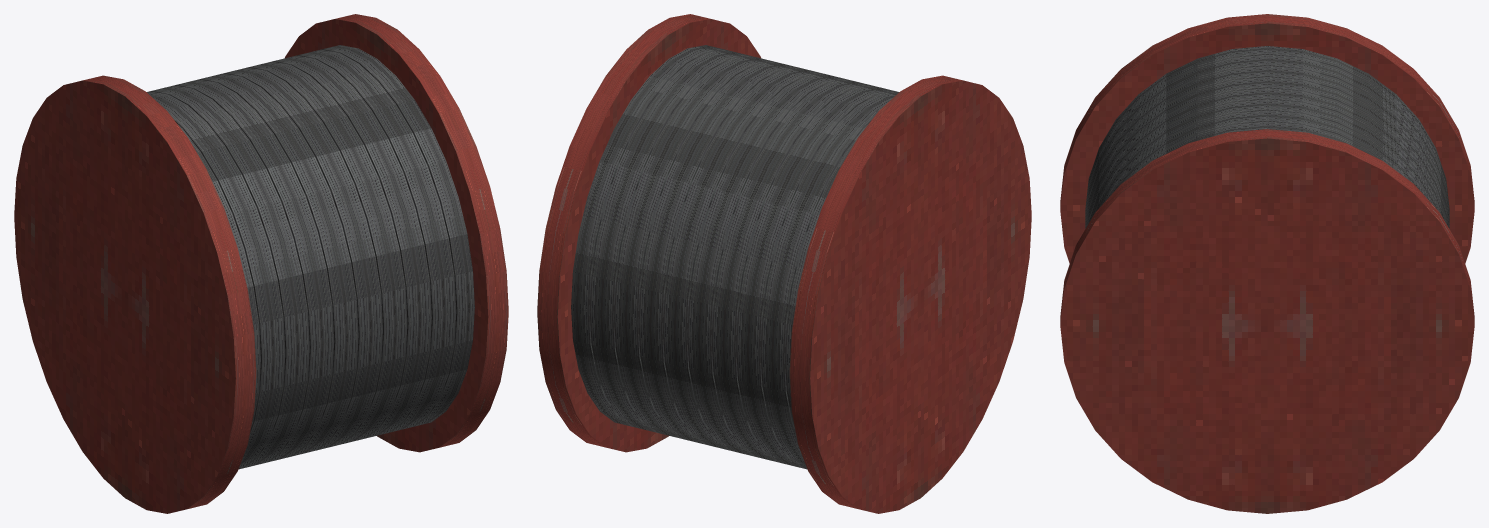
Rendered from power-reel.glb.
The picture shows the model from 3 angles, left to right: view 1: azimuth 30°, elevation 25°; view 2: azimuth 150°, elevation 25°; view 3: azimuth 270°, elevation 25°; orthographic projection. The views are drawn at different scales.
Visible parts, largest first — view 1: cheek (×2), wrap (×10); view 2: cheek (×2), wrap (×10); view 3: cheek (×2), wrap (×8).
Part boxes in pixels (box(x1,y1,x2,y2)): cheek (×2): box(14, 14, 508, 513); wrap (×10): box(147, 45, 474, 469); cheek (×2): box(537, 14, 1031, 513); wrap (×10): box(571, 45, 898, 469); cheek (×2): box(1060, 14, 1474, 513); wrap (×8): box(1085, 46, 1449, 228).
Bounding box in the file's own units: 0.398 × 0.56 × 0.56.
2 materials, 2 textured.
